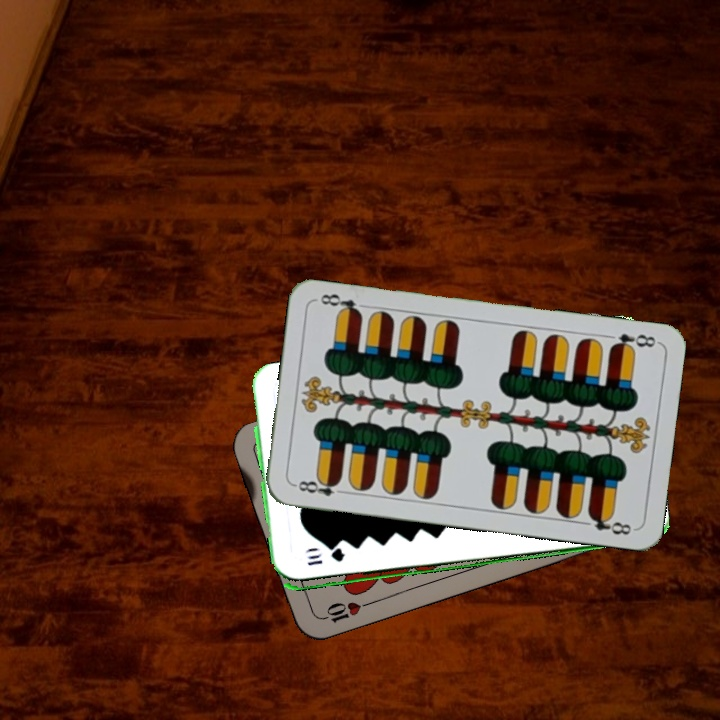E8: (290, 474, 349, 499), (606, 329, 660, 354)
G10: (303, 548, 348, 568)
H10: (314, 597, 372, 625)
